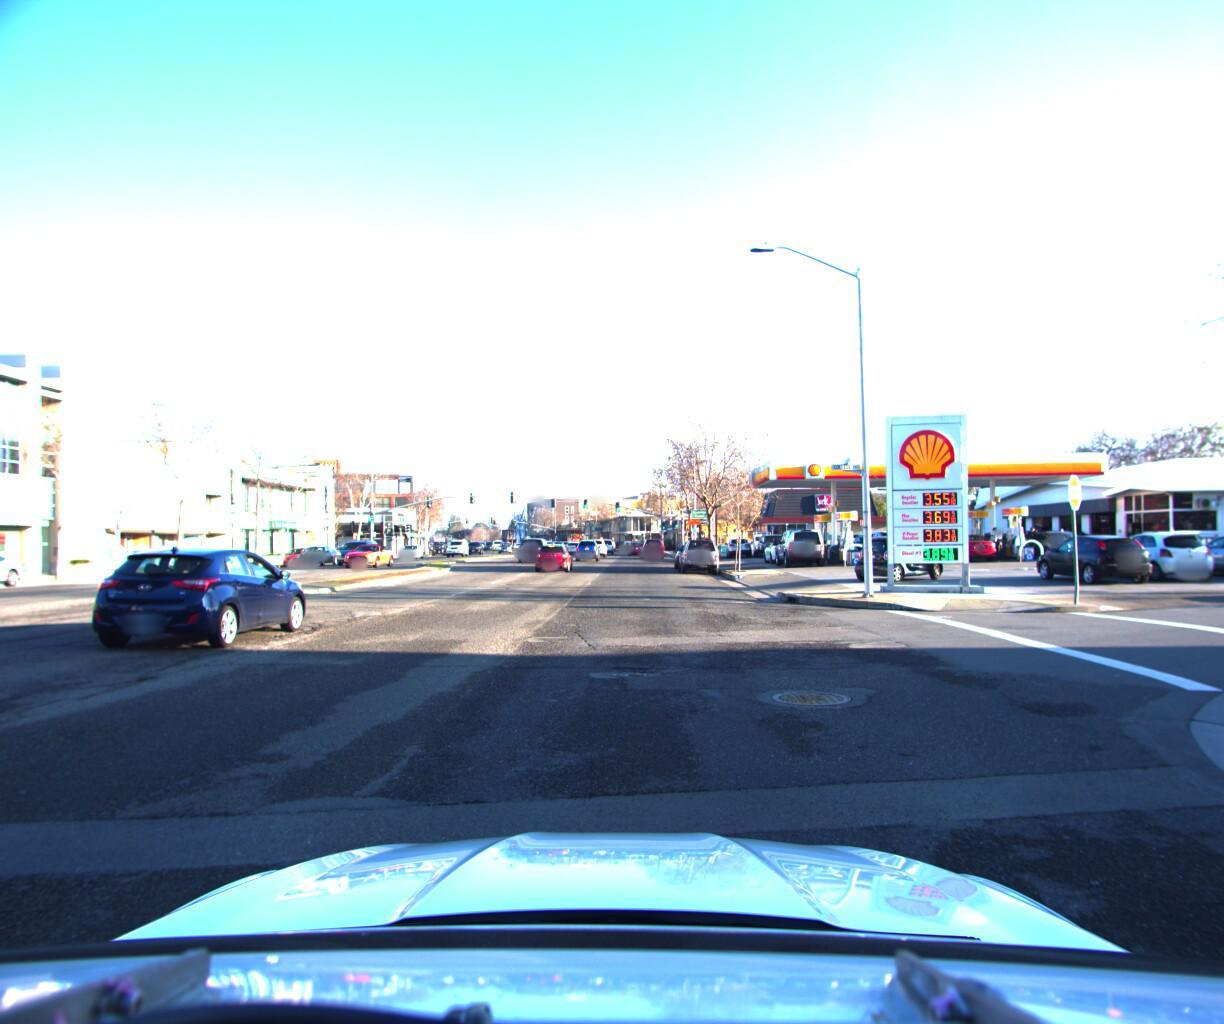car: (77, 538, 317, 664), (1022, 527, 1158, 581), (1088, 524, 1217, 578), (847, 528, 946, 578), (1155, 525, 1224, 578), (1007, 521, 1092, 553), (1087, 496, 1177, 526), (768, 522, 827, 563), (927, 528, 1001, 558), (673, 531, 722, 570), (1024, 503, 1099, 526), (0, 547, 34, 597), (529, 537, 574, 573), (340, 536, 397, 563), (757, 531, 807, 558), (514, 530, 553, 560), (670, 536, 707, 567), (292, 538, 340, 561), (278, 540, 319, 563), (718, 530, 751, 551), (573, 533, 600, 555), (397, 535, 427, 553), (587, 535, 610, 556), (638, 533, 664, 552), (626, 532, 647, 551), (564, 533, 582, 548)
